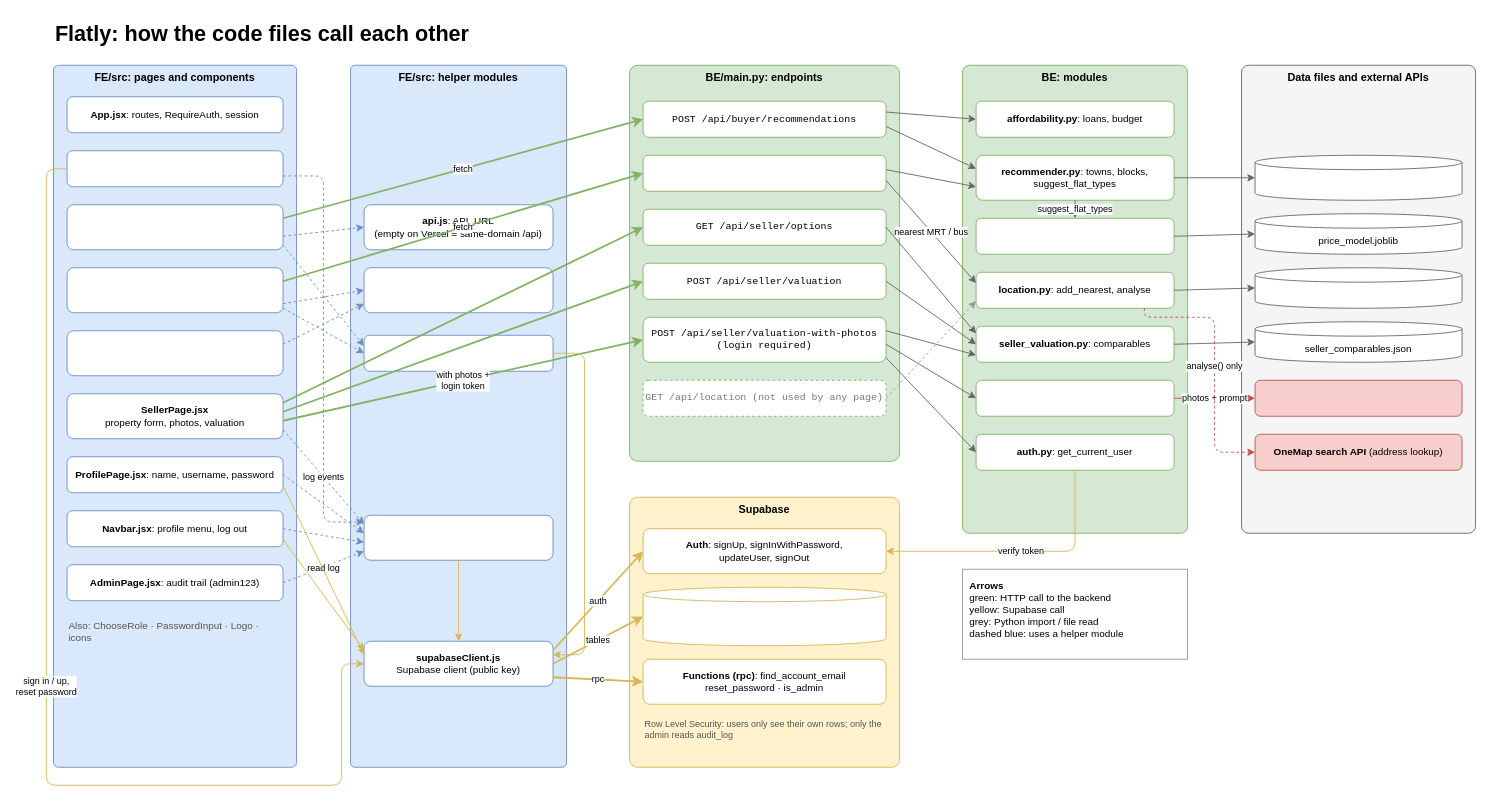
Some shapes in this 1491 by 808 pixel diagram are drawn without their labels. The centre of each missing label's shape, as x and y in pixels:
"audit.js : logEvent, isAdmin, listEvents, countUsers" goes at point (458, 537).
"BuyerPage.jsx form, loans, towns, saved searches" goes at point (174, 227).
"gemini_valuation.py : photo condition" goes at point (1074, 397).
"GET /api/buyer/town-blocks" goes at point (764, 172).
"Google Gemini API" goes at point (1358, 397).
"location_stats.json block_coords.json" goes at point (1358, 177).
"Login · Signup · ForgotPassword" goes at point (174, 168).
"mrtLines.js : line colours, distances, CBD distance" goes at point (458, 290).
"price_model.py : ML predictions" goes at point (1074, 235).
"SavedSearchesModal · SavedPanel SavedFlatsMap" goes at point (174, 353).
"saves.js : saved searches + flats" goes at point (458, 352).
"Tables : profiles · saved_searches bookmarks · audit_log" goes at point (764, 616).
"TownHeatMap.jsx towns / blocks map, pin and save" goes at point (174, 290).
"transport.json" goes at point (1358, 287).
